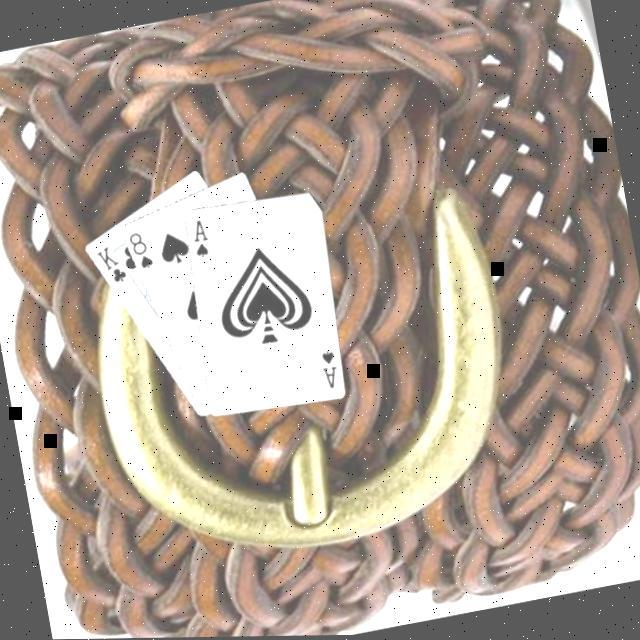8S: (122, 228, 154, 276)
AS: (313, 348, 341, 396), (184, 216, 211, 264)
KC: (90, 240, 134, 292)
